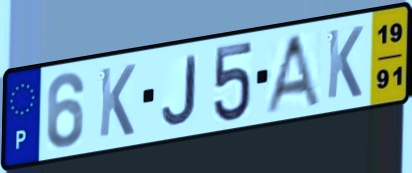5: (211, 38, 255, 124)
6: (45, 69, 87, 151)
A: (261, 31, 323, 117)
J: (160, 52, 199, 127)
K: (96, 62, 138, 141), (324, 23, 365, 103)
